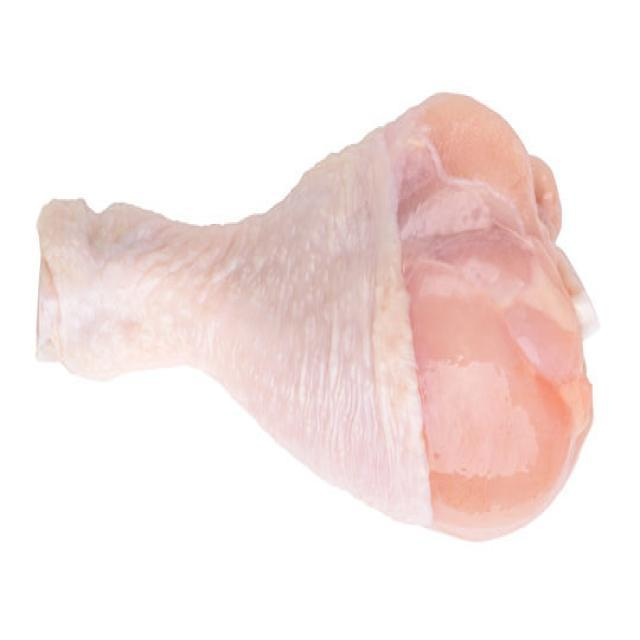leg: (38, 97, 588, 516)
